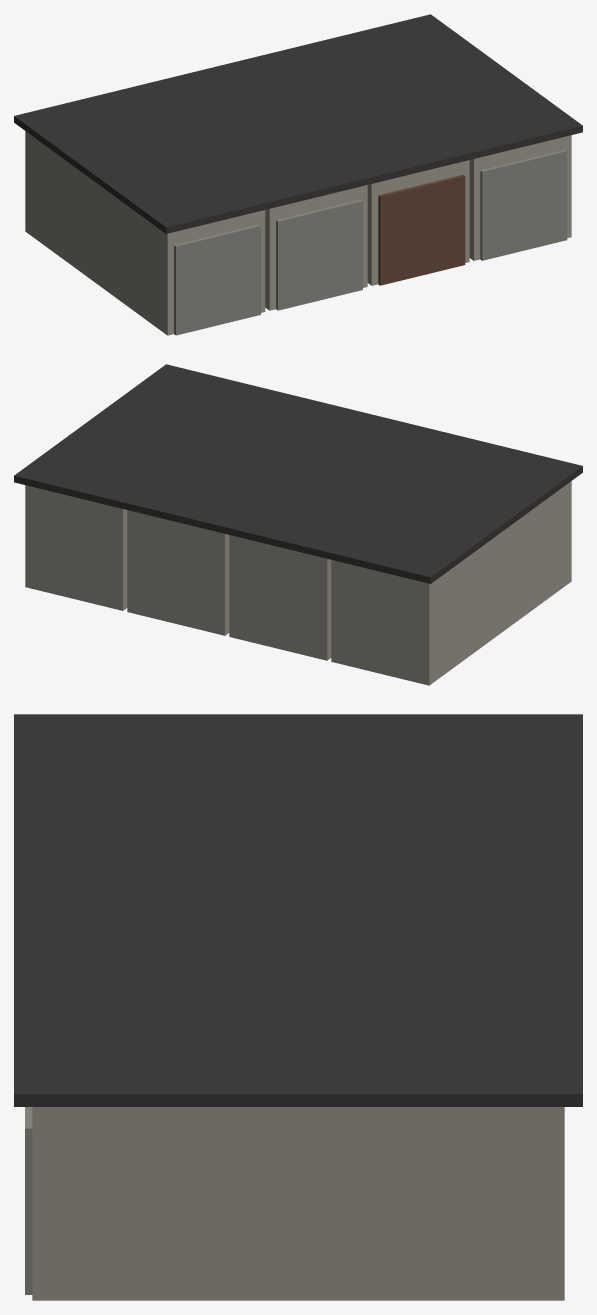
File: garages.glb
3 views of the same model, one above another, from view 1: azimuth 30°, elevation 25°; view 2: azimuth 150°, elevation 25°; view 3: azimuth 270°, elevation 25° (orthographic). The views are drawn at different scales.
Parts seen in each view (by area): view 1: garages; view 2: garages; view 3: garages.
Part boxes in pixels (x1,y1,x2,y2): garages: (14,14,582,335); garages: (14,364,582,685); garages: (14,714,582,1300).
Size of the model in its own units: 9.8 by 2.55 by 6.2.
